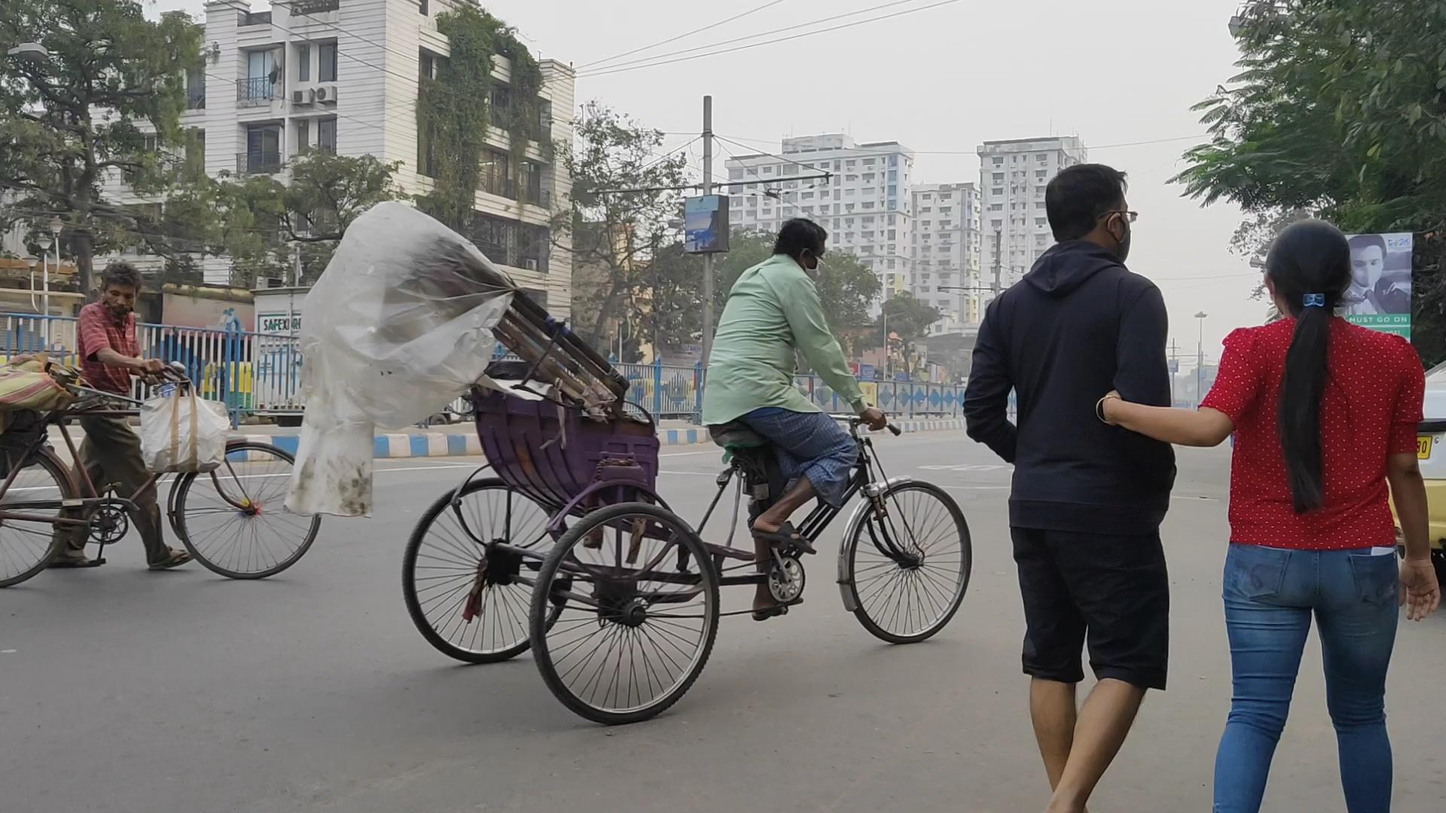bike: (1, 260, 322, 590)
